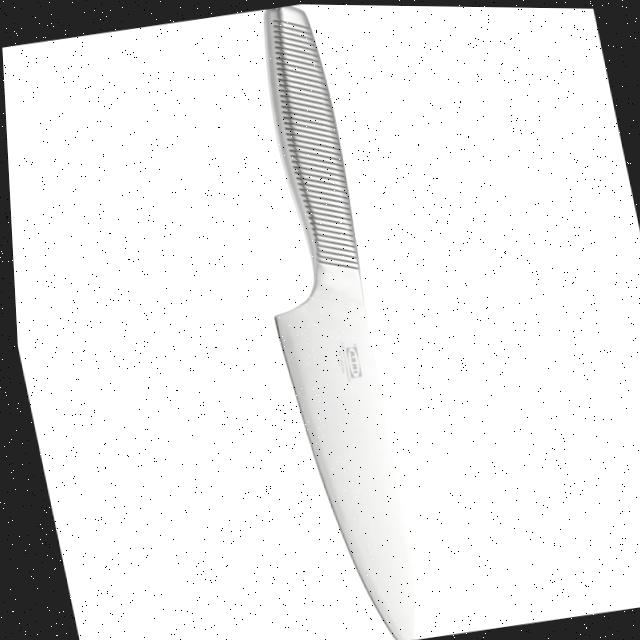knife: (207, 2, 438, 640)
